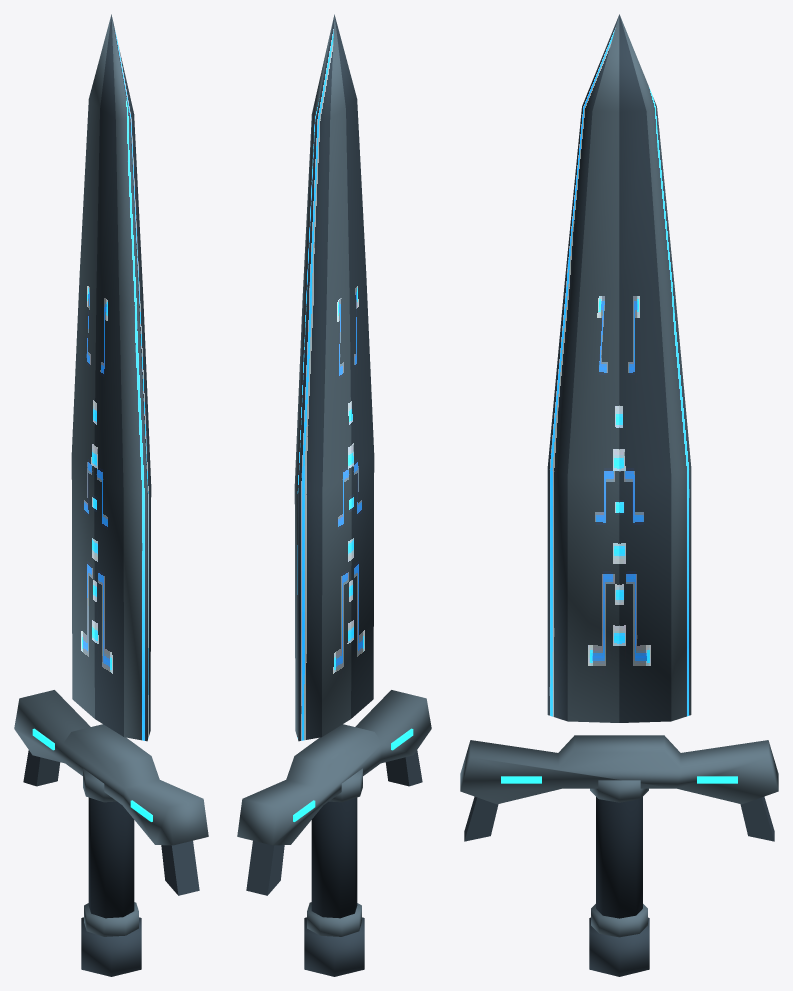
The model's file is tampered_blade.glb.
3 renders of one model, left to right at view 1: azimuth 30°, elevation 25°; view 2: azimuth 150°, elevation 25°; view 3: azimuth 270°, elevation 25°, orthographic.
Parts seen in each view (by area): view 1: tampered_blade; view 2: tampered_blade; view 3: tampered_blade.
Part boxes in pixels (<box>): tampered_blade: <box>14,14,208,976</box>; tampered_blade: <box>237,14,431,976</box>; tampered_blade: <box>460,14,778,976</box>.
Bounding box in the file's own units: 0.1056 × 1.59 × 0.4847.
